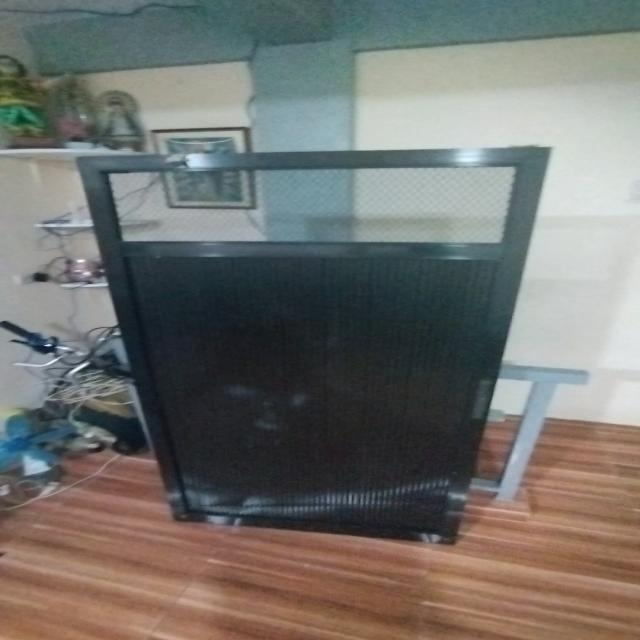door: (78, 144, 551, 543)
